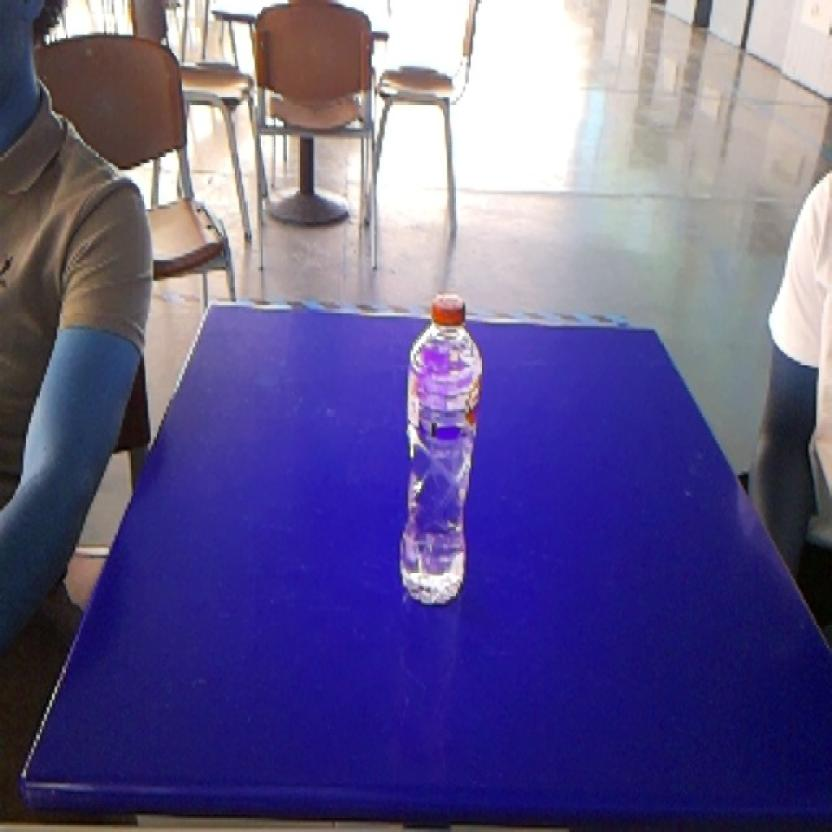good: (395, 276, 488, 617)
